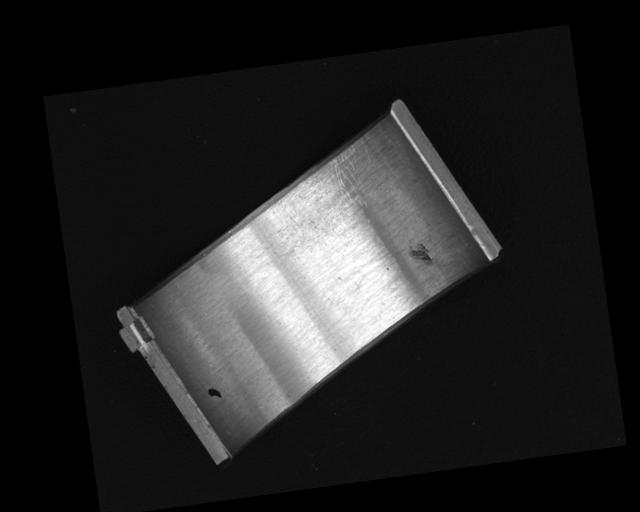blot: (206, 386, 222, 401)
bruise: (406, 241, 434, 266)
scratch: (269, 137, 382, 243)
